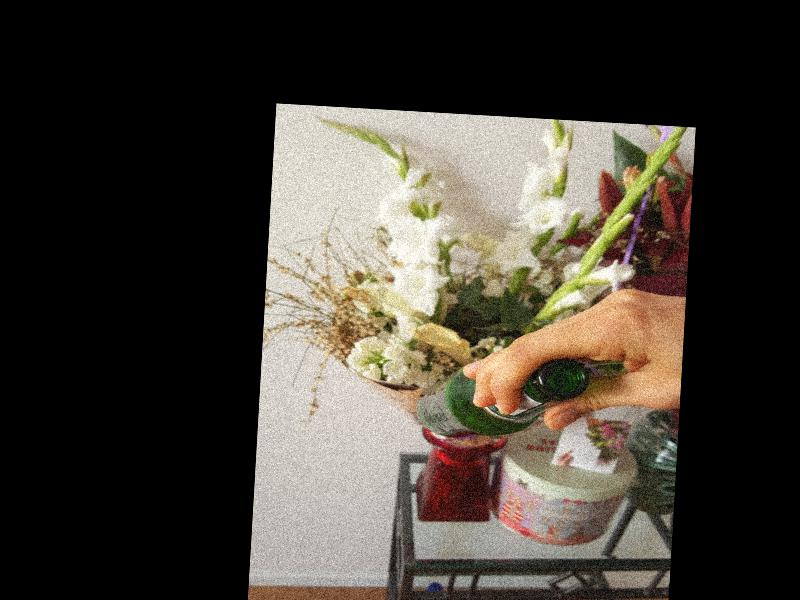Beer: (414, 351, 589, 446)
